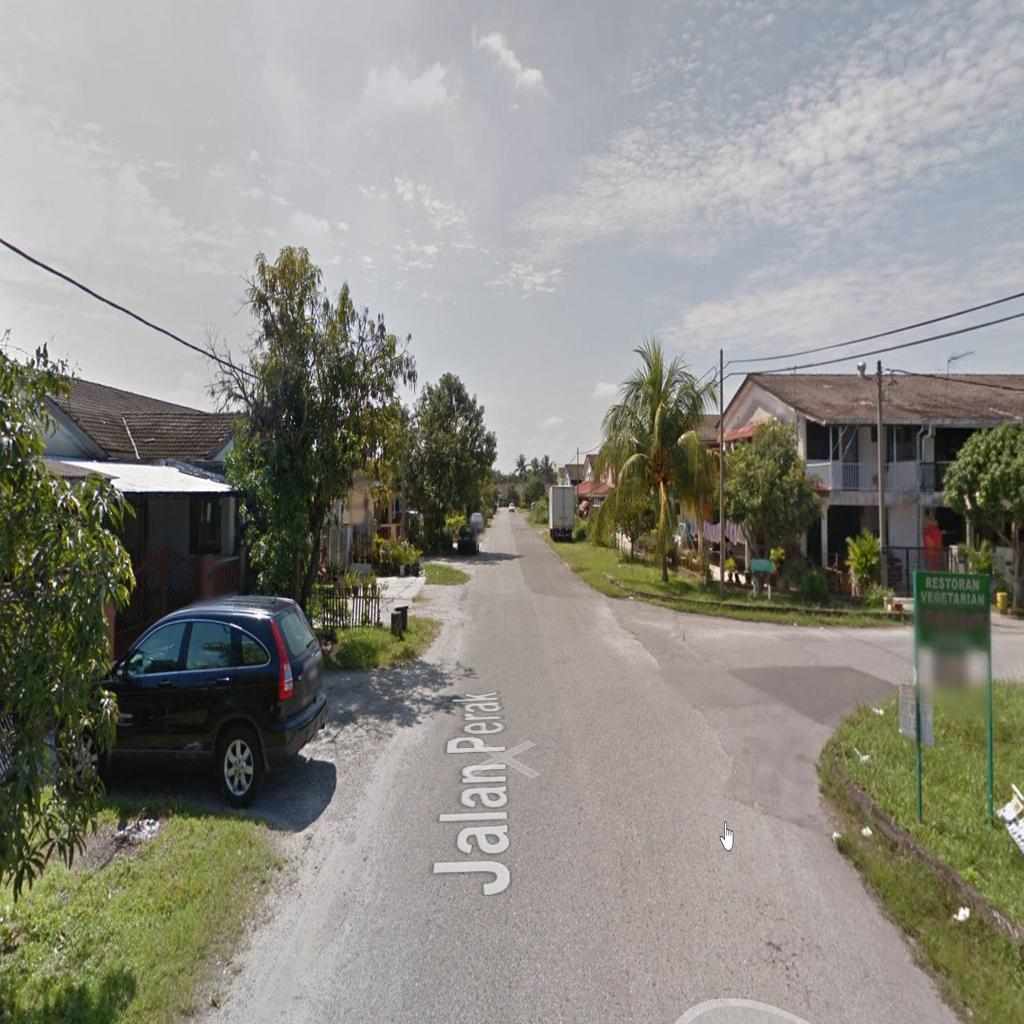Junction: (620, 550, 915, 816)
